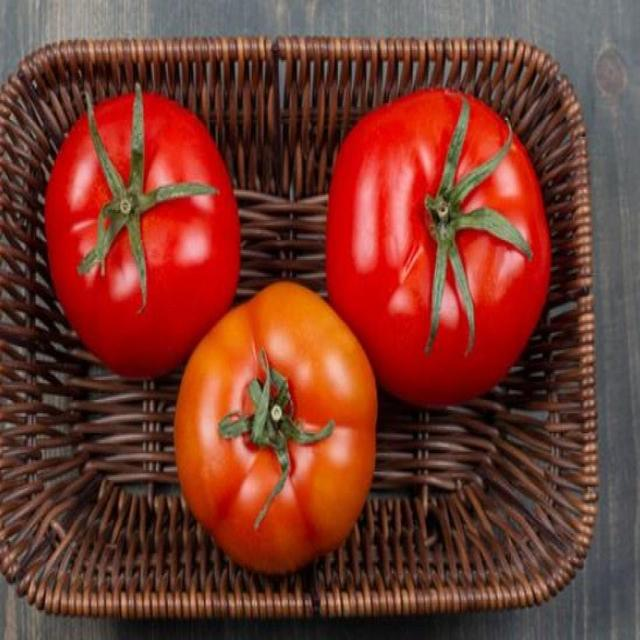Healthy Fruit: (91, 141, 294, 280)
